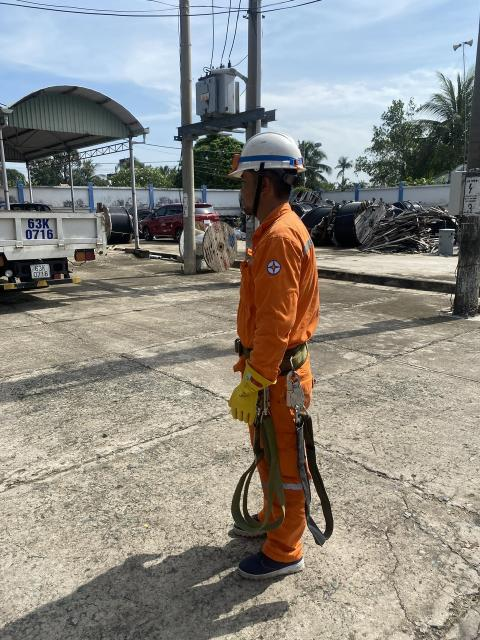gloves: (198, 354, 282, 433)
harness: (213, 335, 322, 374)
helmet: (223, 120, 317, 200)
shoes: (236, 539, 318, 593), (211, 493, 295, 544)
